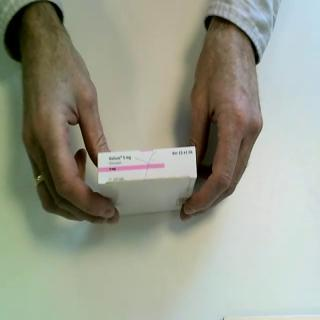valium5mg: (97, 145, 199, 219)
